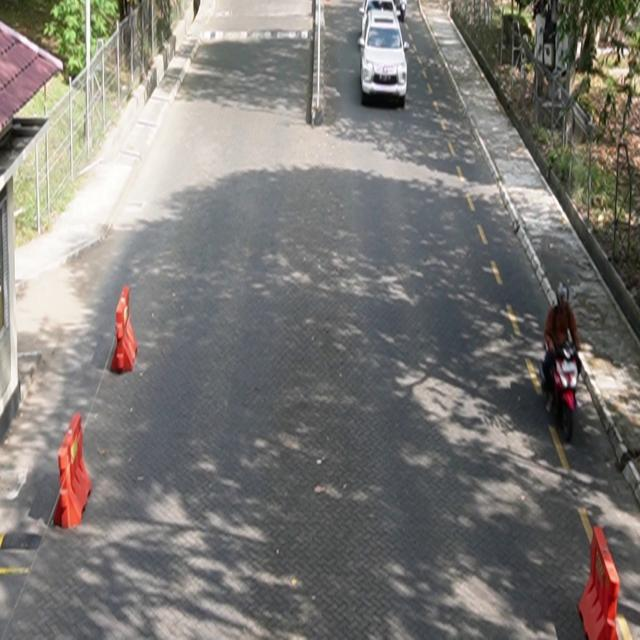car: (359, 7, 409, 109)
